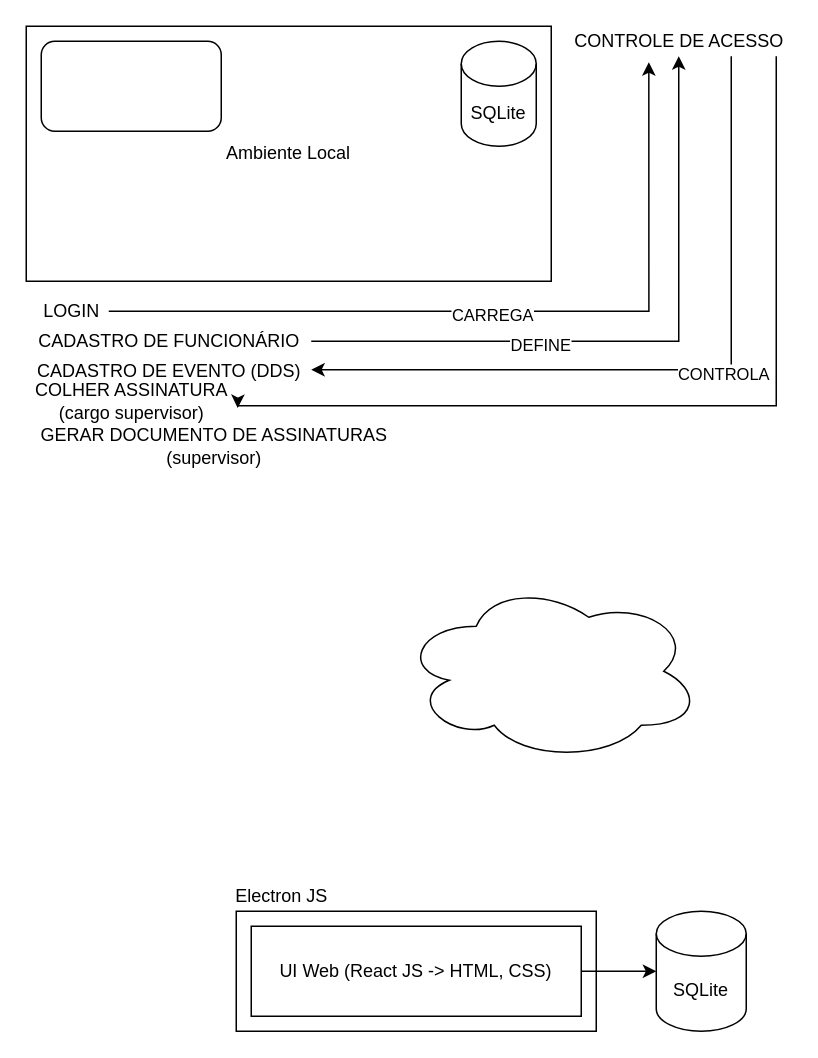
The diagram is 818 pixels wide and 1058 high, and some of its shapes have lost their labels. Here are the shapes that lost their labels. From the top down, the centre of each, then its label:
pixel 130 85: Aplicação
pixel 550 670: API - C#
